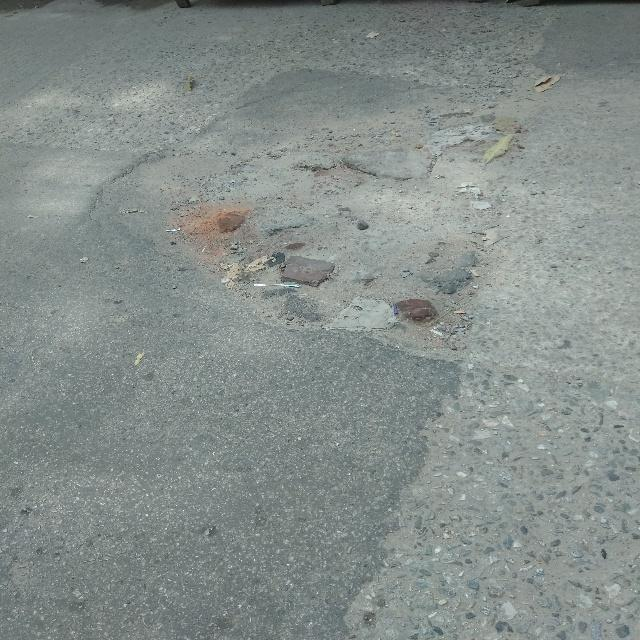Surface Erosion: (16, 6, 628, 640)
